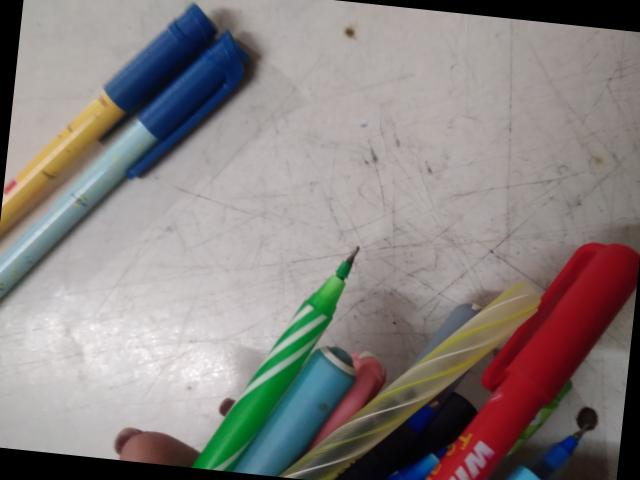PEN: (139, 0, 503, 241), (0, 187, 258, 387), (0, 397, 260, 474)
